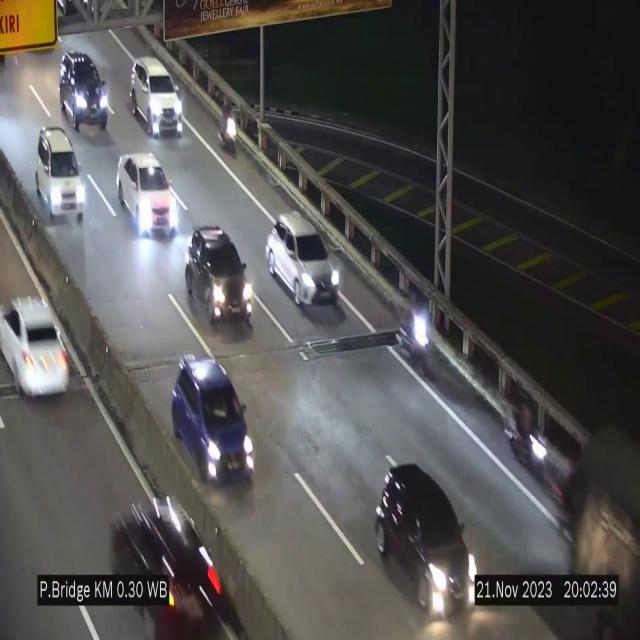Car: (108, 469, 238, 640), (374, 457, 479, 619), (0, 273, 76, 422), (171, 353, 253, 482), (185, 222, 257, 332), (266, 212, 340, 306), (116, 152, 176, 236), (57, 47, 111, 132), (36, 128, 86, 219), (130, 56, 184, 136)
Motorcycle: (508, 381, 548, 484), (402, 300, 435, 380), (216, 92, 238, 164)
